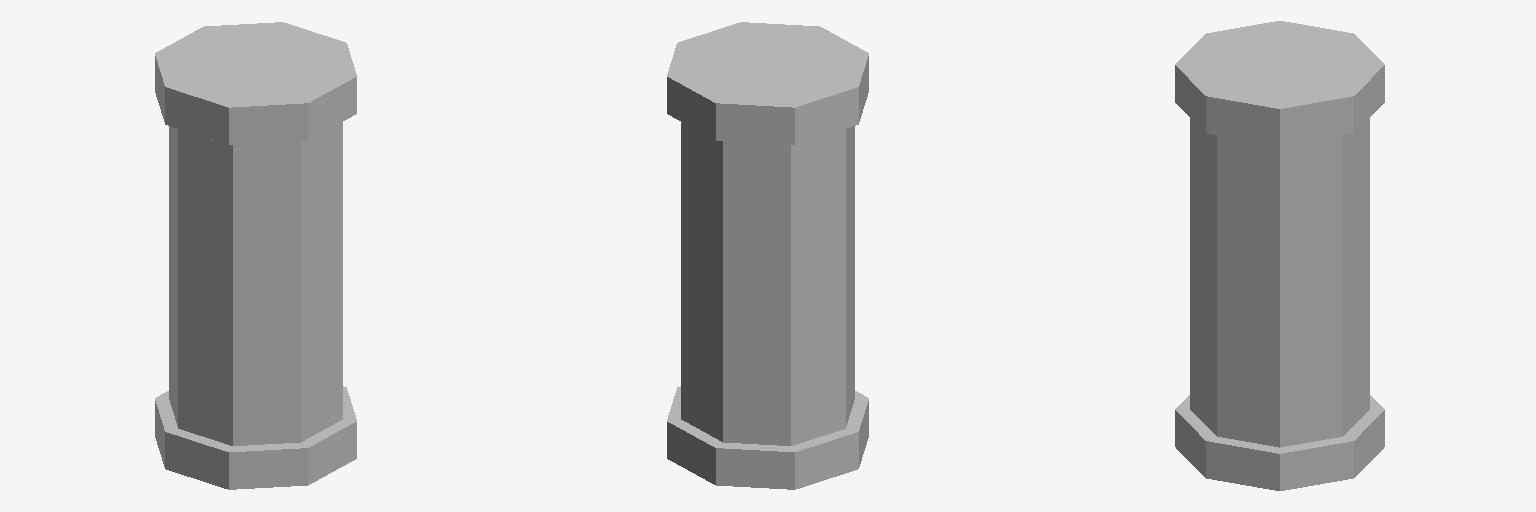
The model's file is Model_Vial.obj.
The picture shows the model from 3 angles: view 1: azimuth 30°, elevation 25°; view 2: azimuth 150°, elevation 25°; view 3: azimuth 270°, elevation 25°; orthographic projection.
Parts seen in each view (by area): view 1: Cylinder.003, Cylinder.002, Cylinder.001; view 2: Cylinder.003, Cylinder.002, Cylinder.001; view 3: Cylinder.003, Cylinder.002, Cylinder.001.
Boxes of the visible parts, x1,y1,x2,y2 form: Cylinder.003: [169, 122, 342, 445]; Cylinder.002: [155, 22, 356, 144]; Cylinder.001: [155, 386, 356, 489]; Cylinder.003: [681, 122, 854, 445]; Cylinder.002: [667, 22, 868, 144]; Cylinder.001: [667, 386, 868, 489]; Cylinder.003: [1190, 118, 1369, 447]; Cylinder.002: [1175, 21, 1384, 146]; Cylinder.001: [1175, 395, 1384, 490].
Size of the model in its own units: 0.2249 by 0.4523 by 0.2249.